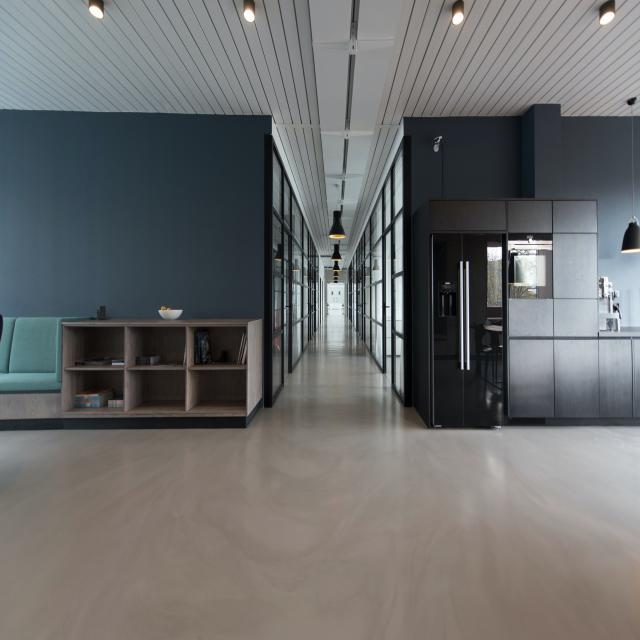floor: (0, 313, 640, 640)
